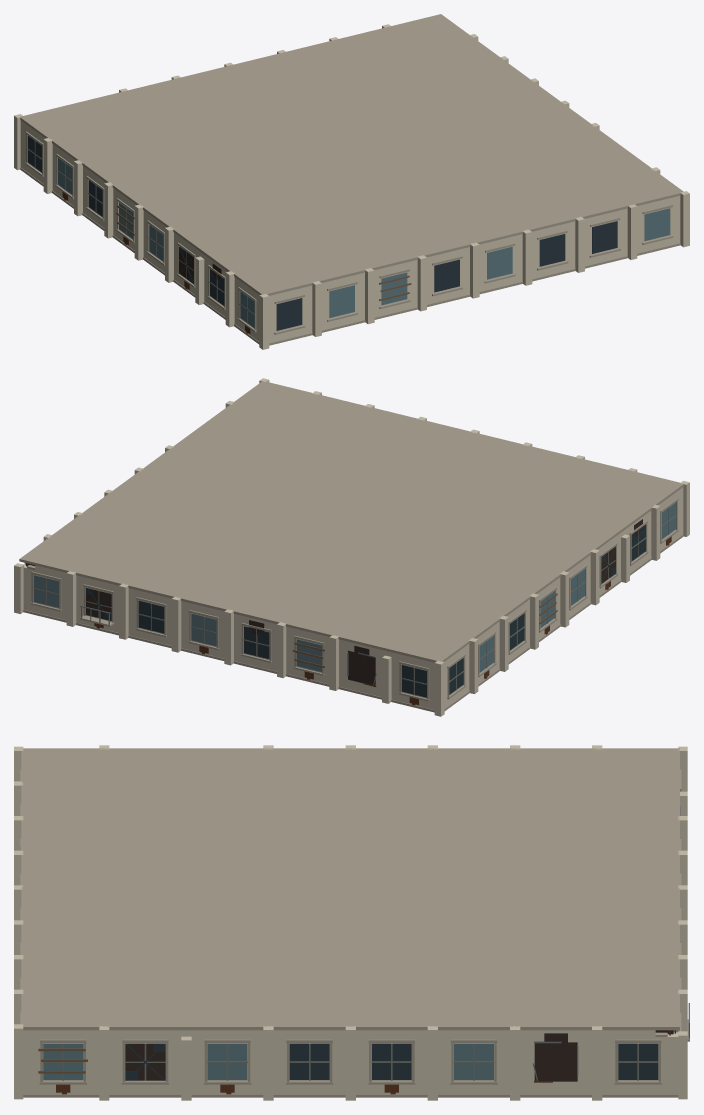
The model's file is tw_stone_32_floor_c.glb.
3 renders of one model, top to bottom at view 1: azimuth 30°, elevation 25°; view 2: azimuth 150°, elevation 25°; view 3: azimuth 270°, elevation 25°, orthographic. The views are drawn at different scales.
Visible parts, largest first — view 1: tw_stone_32_floor_c; view 2: tw_stone_32_floor_c; view 3: tw_stone_32_floor_c.
Part boxes in pixels (<box>): tw_stone_32_floor_c: <box>14,14,689,349</box>; tw_stone_32_floor_c: <box>14,378,689,716</box>; tw_stone_32_floor_c: <box>14,745,689,1100</box>.
Size of the model in its own units: 32.8 by 3.8 by 32.92.
Materials: 3 (3 with a texture image).
